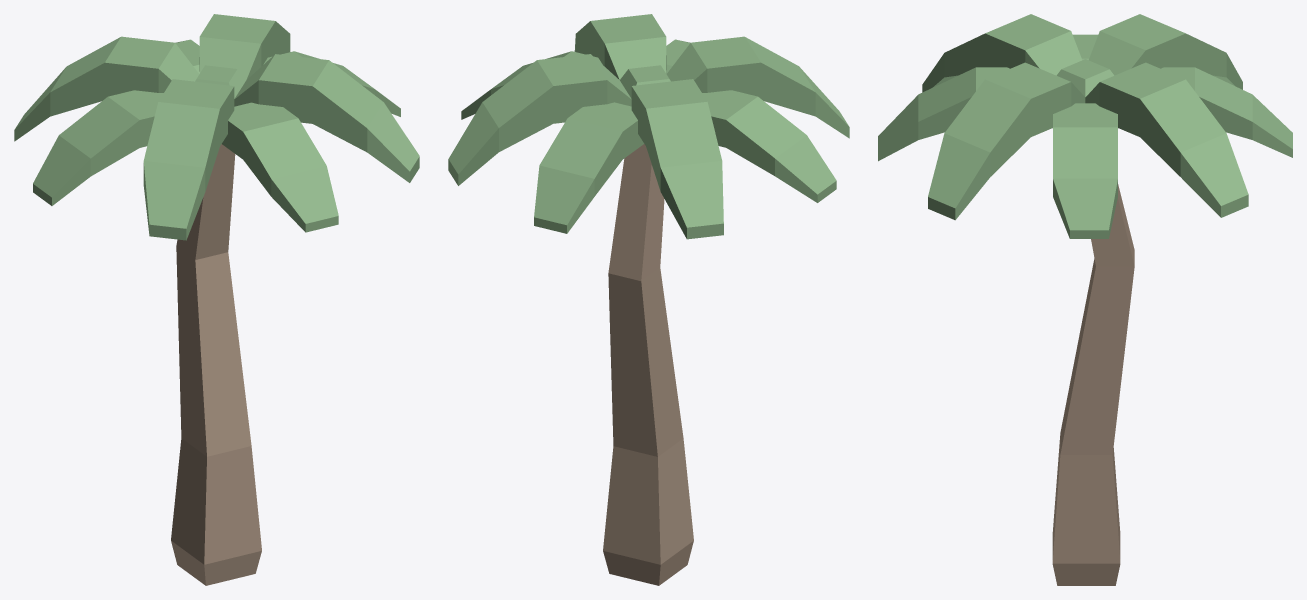
File: palm_c.glb
The picture shows the model from 3 angles, left to right: view 1: azimuth 30°, elevation 25°; view 2: azimuth 150°, elevation 25°; view 3: azimuth 270°, elevation 25°; orthographic projection.
Parts seen in each view (by area): view 1: palm_c; view 2: palm_c; view 3: palm_c.
Part boxes in pixels (x1,y1,x2,y2): palm_c: (14,14,419,585); palm_c: (448,14,849,585); palm_c: (878,14,1292,585).
Bounding box in the file's own units: 49.41 × 68 × 49.41.
